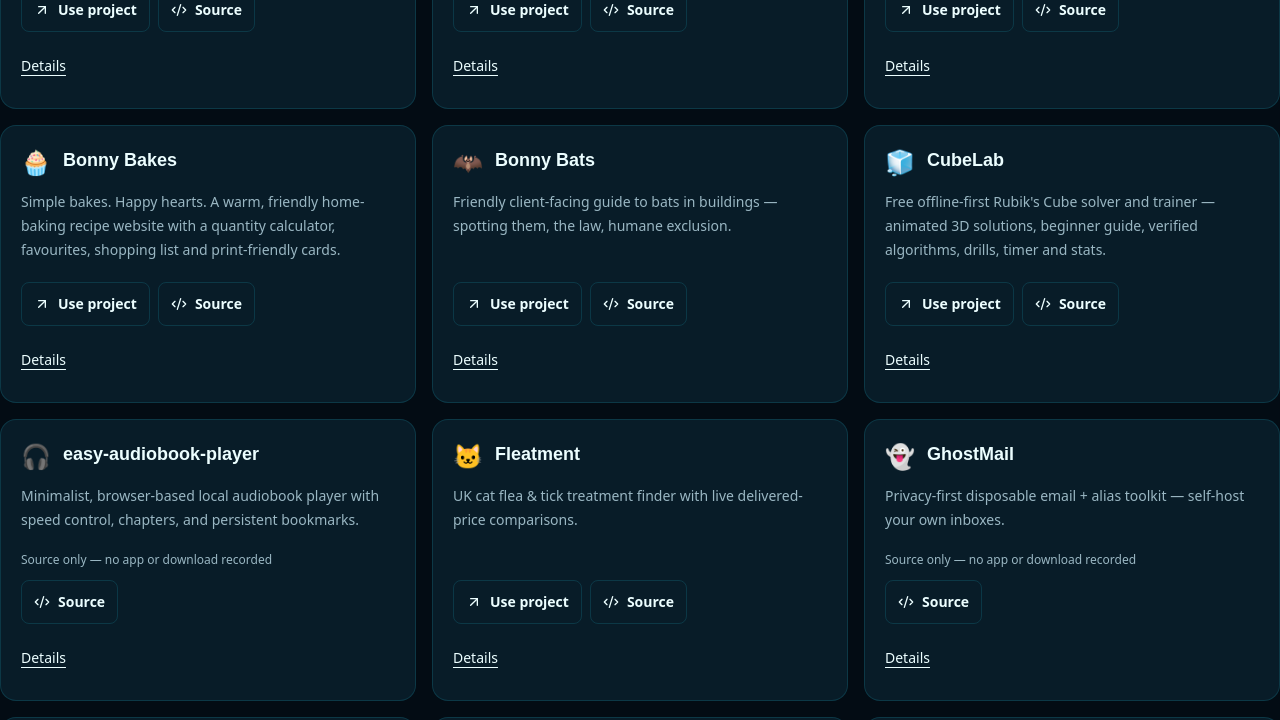
it: ProjectGrid › opens a detail modal when a card is clicked and closes on Escape
(page scrolled)
Click the button "Details" below "Bonny Bakes" at (44, 360), box [21,338,66,382]
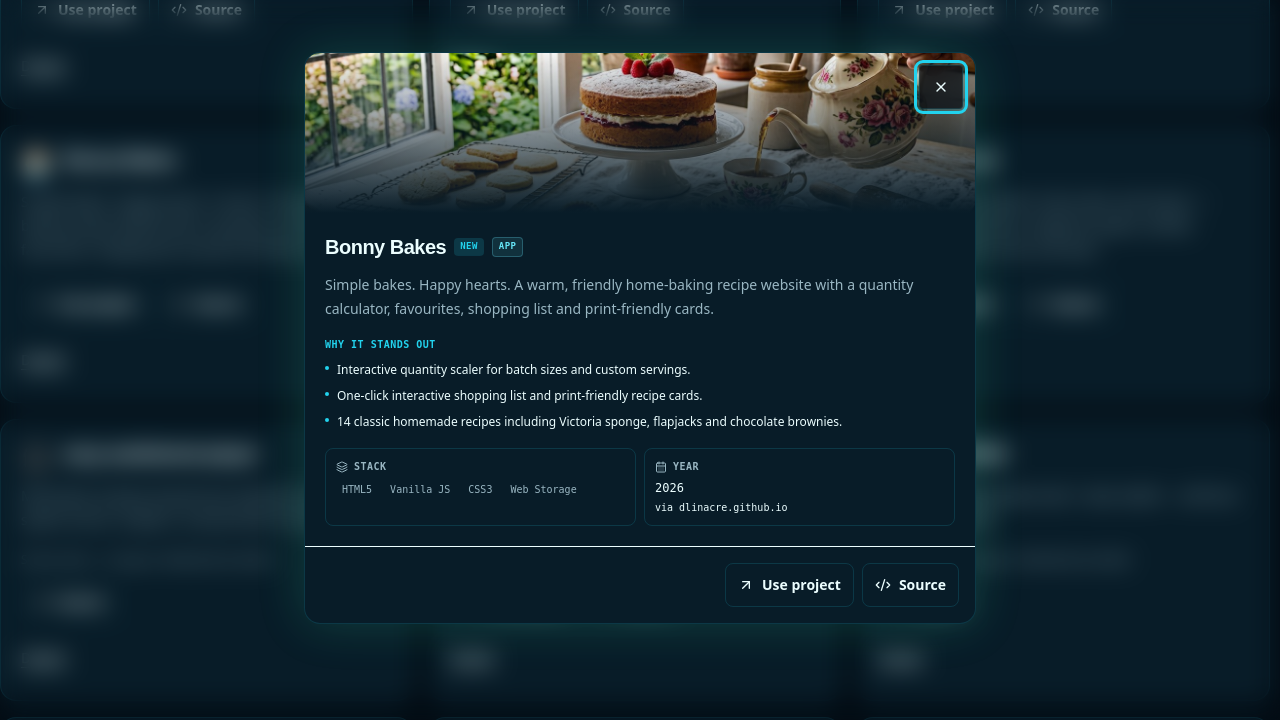
Expected: the heading "Bonny Bakes" is shown, [325,233,446,261]
Expected: the text "Simple bakes. Happy hearts. A warm, friendly home-baking recipe website with a quantity calculator, favourites, shopping" is shown, [325,275,913,318]
// Escape closes it.
Press Escape
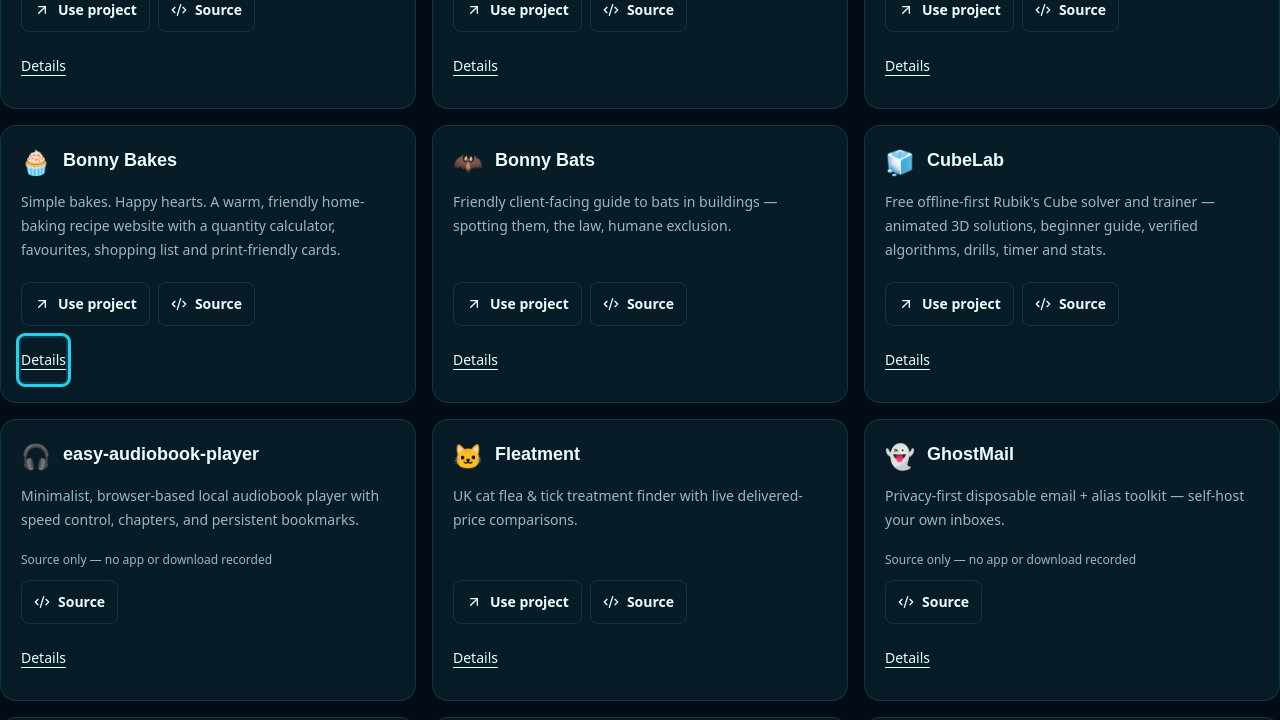
Expected: the dialog is gone
